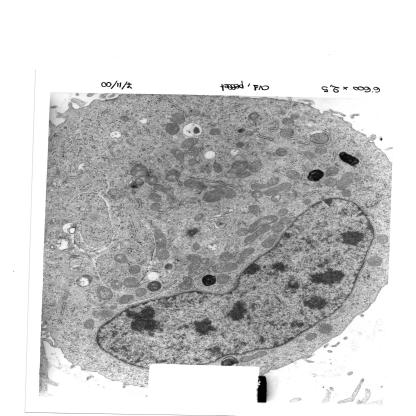mitochondria: (248, 214, 278, 235), (152, 229, 170, 261), (262, 182, 294, 197), (238, 350, 272, 364), (250, 177, 280, 191), (212, 184, 239, 199), (94, 284, 115, 302), (278, 112, 301, 128), (337, 172, 356, 191), (237, 246, 255, 264), (176, 276, 198, 290), (202, 190, 223, 204), (210, 263, 239, 273), (229, 160, 249, 174), (260, 234, 278, 249), (182, 179, 206, 190), (278, 126, 296, 140), (167, 112, 186, 125), (316, 323, 335, 336), (366, 255, 384, 268), (132, 164, 148, 178), (248, 159, 264, 173), (170, 148, 186, 162), (180, 137, 200, 148), (283, 170, 302, 181), (94, 307, 113, 318), (164, 123, 180, 136), (303, 332, 321, 343), (376, 233, 390, 246), (123, 277, 139, 288), (184, 262, 201, 272), (166, 170, 180, 182), (247, 204, 262, 215), (144, 175, 159, 186), (325, 166, 340, 177), (217, 274, 231, 285), (114, 253, 128, 264), (323, 177, 337, 188), (118, 295, 135, 304), (274, 207, 290, 216), (271, 222, 284, 233), (110, 280, 124, 290), (128, 265, 142, 275), (219, 252, 233, 262), (278, 216, 292, 226), (84, 318, 96, 329), (188, 147, 201, 157), (269, 193, 283, 202), (148, 193, 162, 202), (249, 190, 263, 199), (314, 146, 328, 155), (248, 112, 261, 121), (235, 173, 254, 179), (148, 203, 162, 211), (340, 190, 354, 198), (188, 109, 202, 117), (194, 212, 205, 222), (212, 163, 223, 173), (187, 254, 200, 262), (208, 128, 221, 136), (136, 288, 147, 297), (237, 228, 249, 236), (300, 198, 312, 205), (188, 158, 198, 166), (235, 141, 245, 148), (199, 258, 210, 264)
